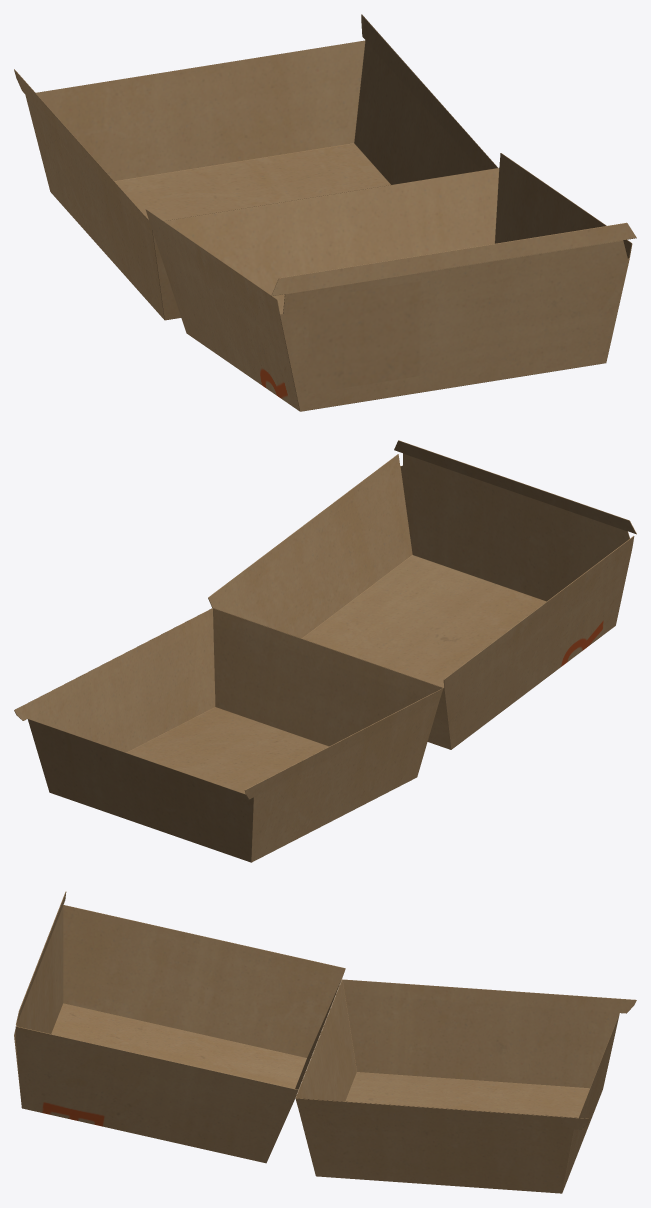
The picture shows the model from 3 angles, top to bottom: view 1: azimuth 30°, elevation 25°; view 2: azimuth 150°, elevation 25°; view 3: azimuth 270°, elevation 25°; orthographic projection. The views are drawn at different scales.
Parts seen in each view (by area): view 1: CartonTop_01, Big_Burger_01; view 2: CartonTop_01, Big_Burger_01; view 3: CartonTop_01, Big_Burger_01.
Part boxes in pixels (box(x1,y1,x2,y2)): CartonTop_01: box(145, 153, 636, 411); Big_Burger_01: box(14, 14, 498, 320); CartonTop_01: box(208, 440, 636, 749); Big_Burger_01: box(14, 608, 443, 862); CartonTop_01: box(14, 891, 345, 1163); Big_Burger_01: box(295, 979, 636, 1193).
Bounding box in the file's own units: 180 × 79.17 × 292.
2 materials, 2 textured.
